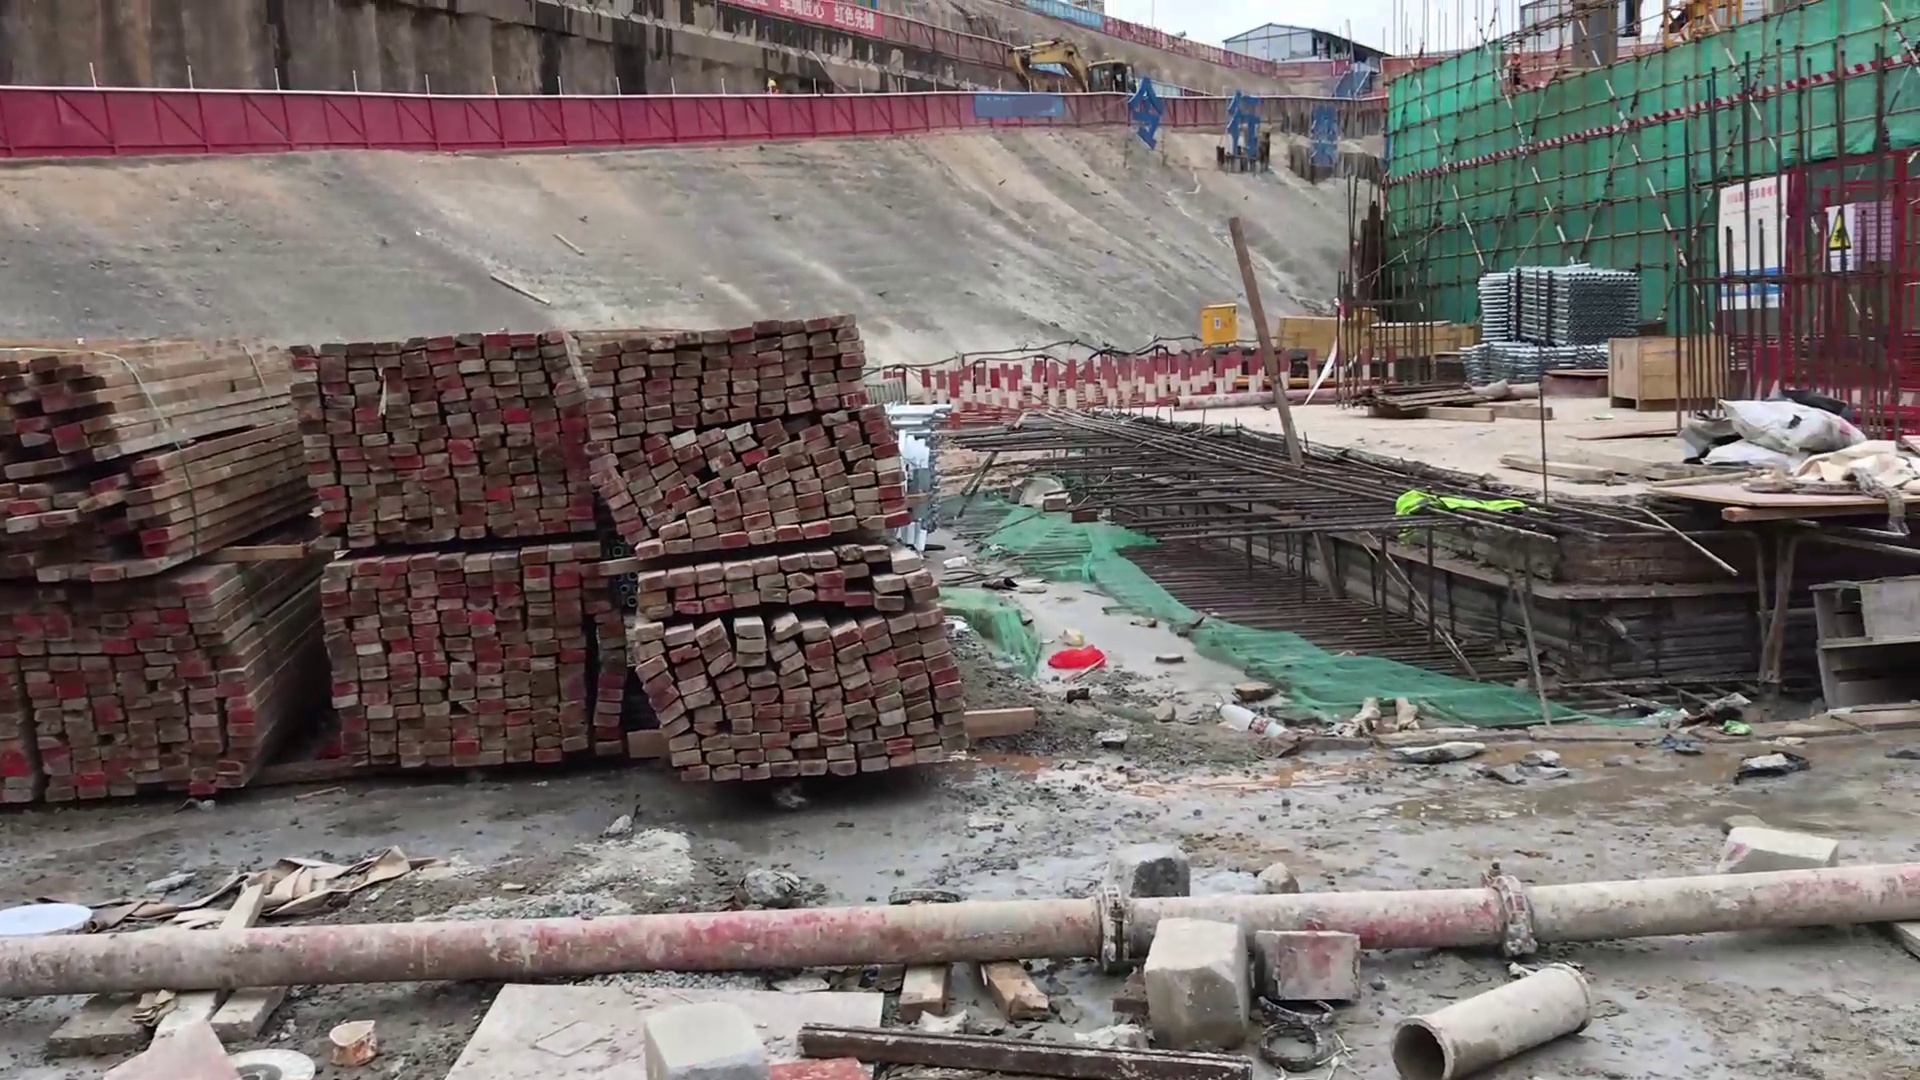ebox: (1197, 295, 1241, 347)
fence: (38, 90, 574, 166)
scaffold: (1491, 255, 1644, 345)
slogan: (1712, 175, 1799, 328), (1815, 193, 1876, 282)
wood: (591, 313, 981, 804), (264, 302, 612, 793), (1, 305, 295, 815), (1606, 326, 1730, 415), (1370, 318, 1472, 359)
